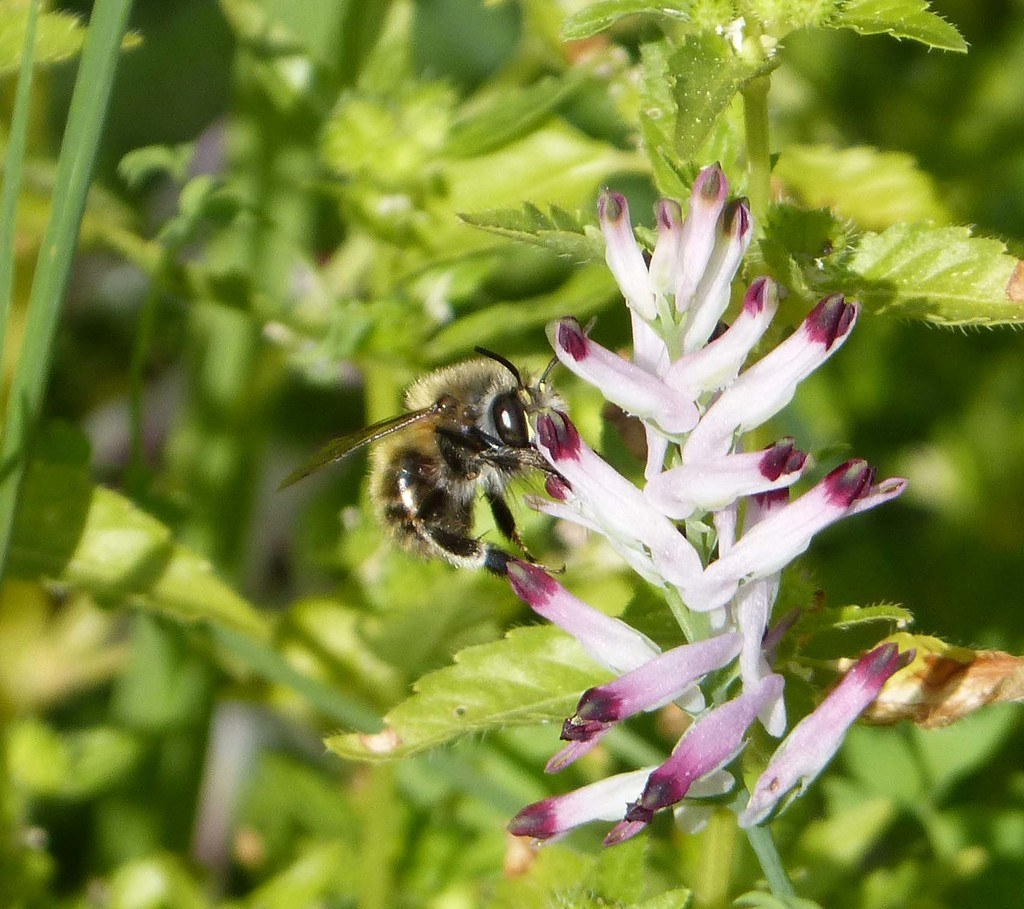bee: (273, 315, 602, 572)
